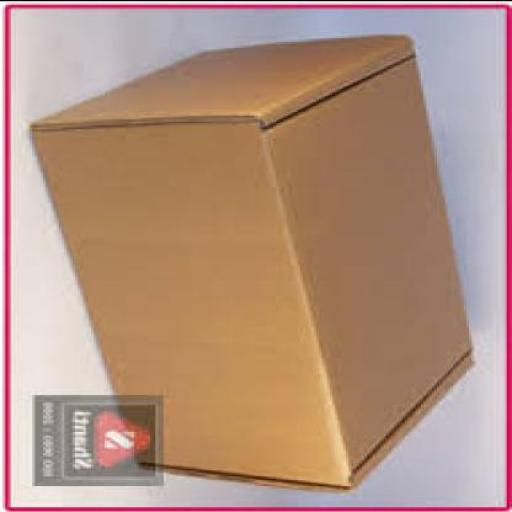cardboard: (32, 37, 480, 492)
